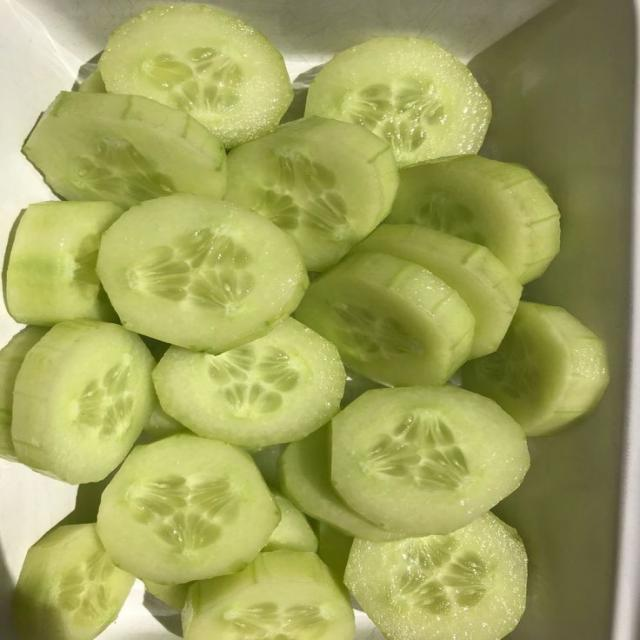cucumber sliced: (98, 194, 307, 352), (331, 387, 529, 536), (100, 4, 293, 147), (98, 435, 279, 584), (226, 117, 398, 271), (154, 318, 346, 448), (306, 37, 491, 166), (296, 253, 474, 385), (12, 320, 153, 484), (24, 92, 226, 206), (345, 513, 526, 639), (354, 225, 521, 358), (387, 156, 559, 283), (462, 303, 608, 435), (183, 551, 355, 639), (6, 202, 122, 326), (14, 524, 134, 639), (280, 427, 402, 540), (0, 327, 47, 460), (262, 492, 318, 551), (315, 521, 353, 582), (144, 400, 189, 440), (144, 403, 188, 439), (144, 580, 191, 611), (252, 445, 285, 489), (77, 68, 106, 93)
